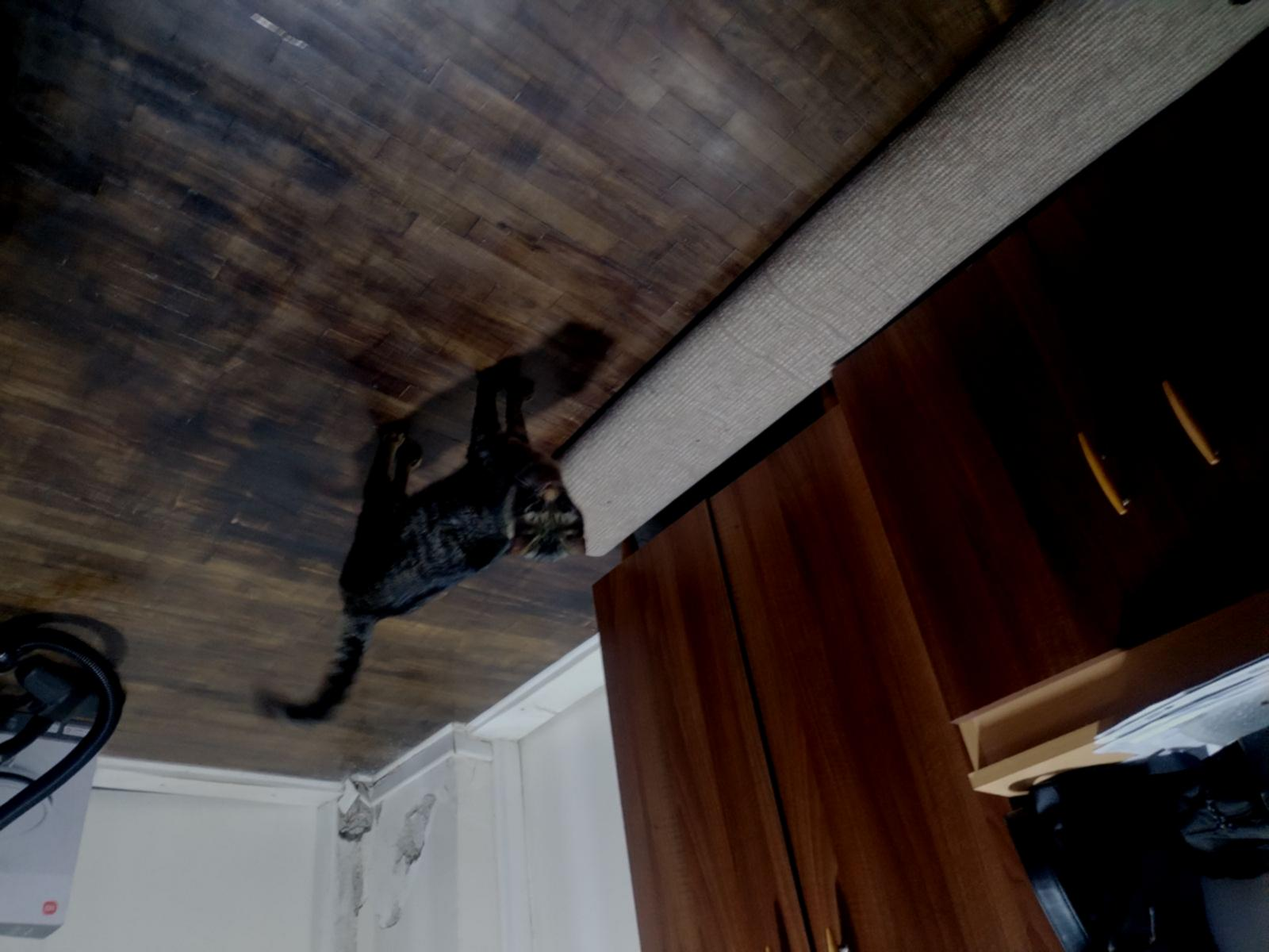macka: (259, 370, 588, 726)
